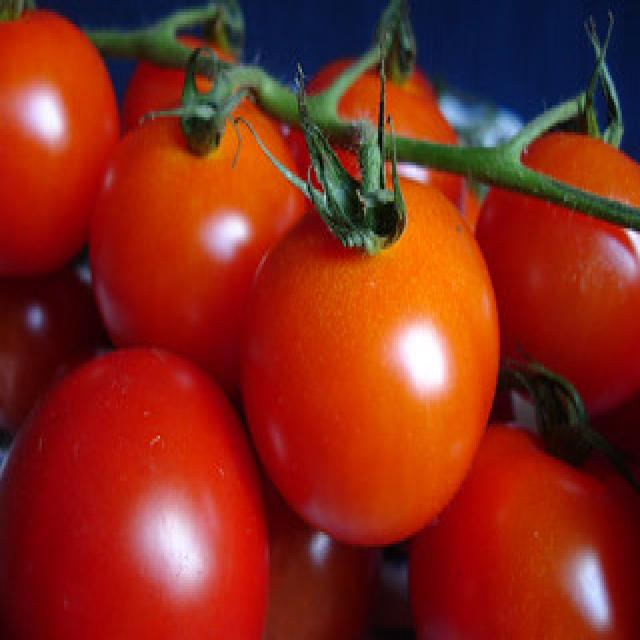Tomato: (232, 120, 506, 550), (0, 345, 274, 640), (88, 91, 313, 364), (402, 406, 640, 638), (469, 126, 640, 431), (0, 8, 124, 288)
